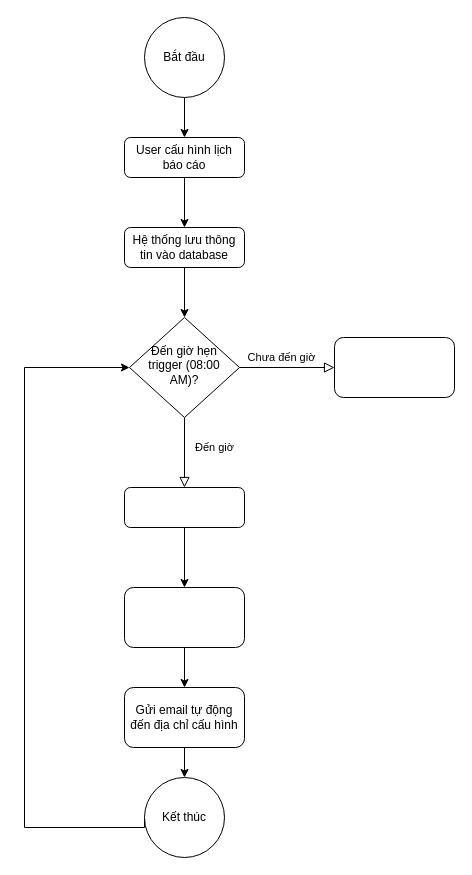
Image size: 472x875. Some labels were removed from this diagram. Each missing label, with the centre of its shape:
Giữ trạng thái Pending / Chờ Cronjob trigger: the point at 394,367
Gọi API E-commerce Ads lấy dữ liệu: the point at 184,507
Tạo File báo cáo định dạng .csv/.pdf: the point at 184,617
